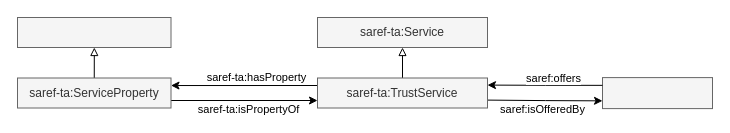
The diagram is 730 pixels wide and 133 high, and some of its shapes have lost their labels. Here are the shapes that lost their labels. From the top down, the centre of each, then its label:
At point 93,32: "saref-ta:Property".
At point 657,93: "saref:Device".
